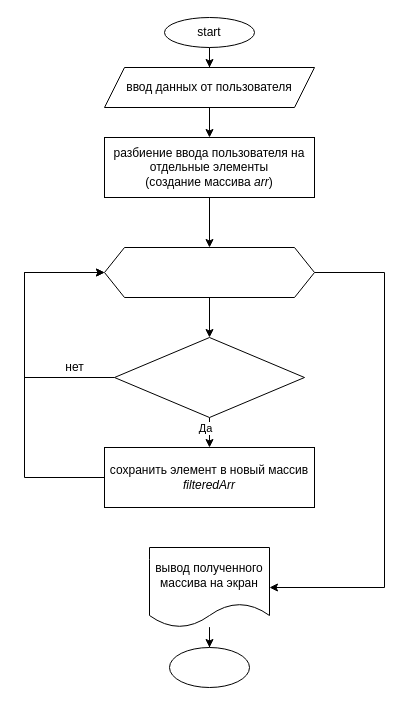
The diagram is 410 pixels wide and 705 high, and some of its shapes have lost their labels. The shapes that lost their labels are listed below. From the top down, each one's centre as x and y in pixels, then its label:
At point (209, 272): "для каждого элемента исходного массива arr".
At point (209, 377): "если элемент содержит 3 и менее элементов".
At point (209, 667): "end".
